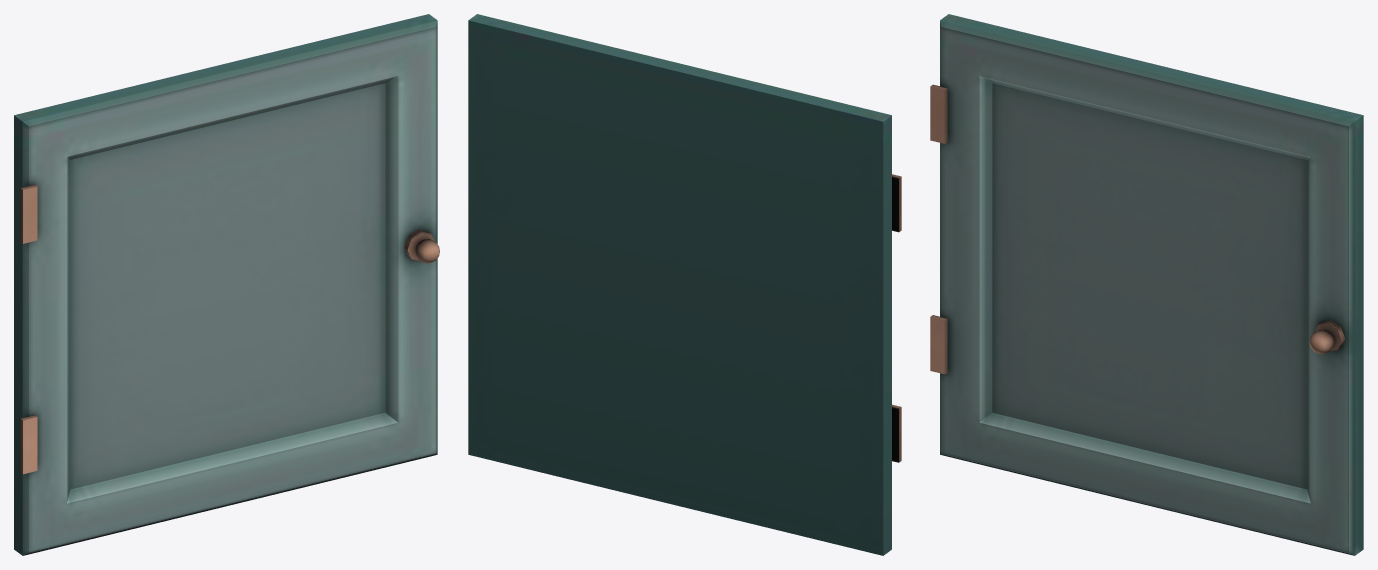
File: bottomDraw.glb
The picture shows the model from 3 angles, left to right: view 1: azimuth 30°, elevation 25°; view 2: azimuth 150°, elevation 25°; view 3: azimuth 330°, elevation 25°; orthographic projection.
Visible parts, largest first — view 1: SwingDoor00; view 2: SwingDoor00; view 3: SwingDoor00.
Boxes of the visible parts, box(x1,y1,x2,y2) form: SwingDoor00: box(14, 14, 439, 555); SwingDoor00: box(468, 14, 901, 555); SwingDoor00: box(930, 14, 1363, 555).
Size of what is drawn, in the model's own units: 0.5556 by 0.5494 by 0.0605.
1 material, 1 textured.
